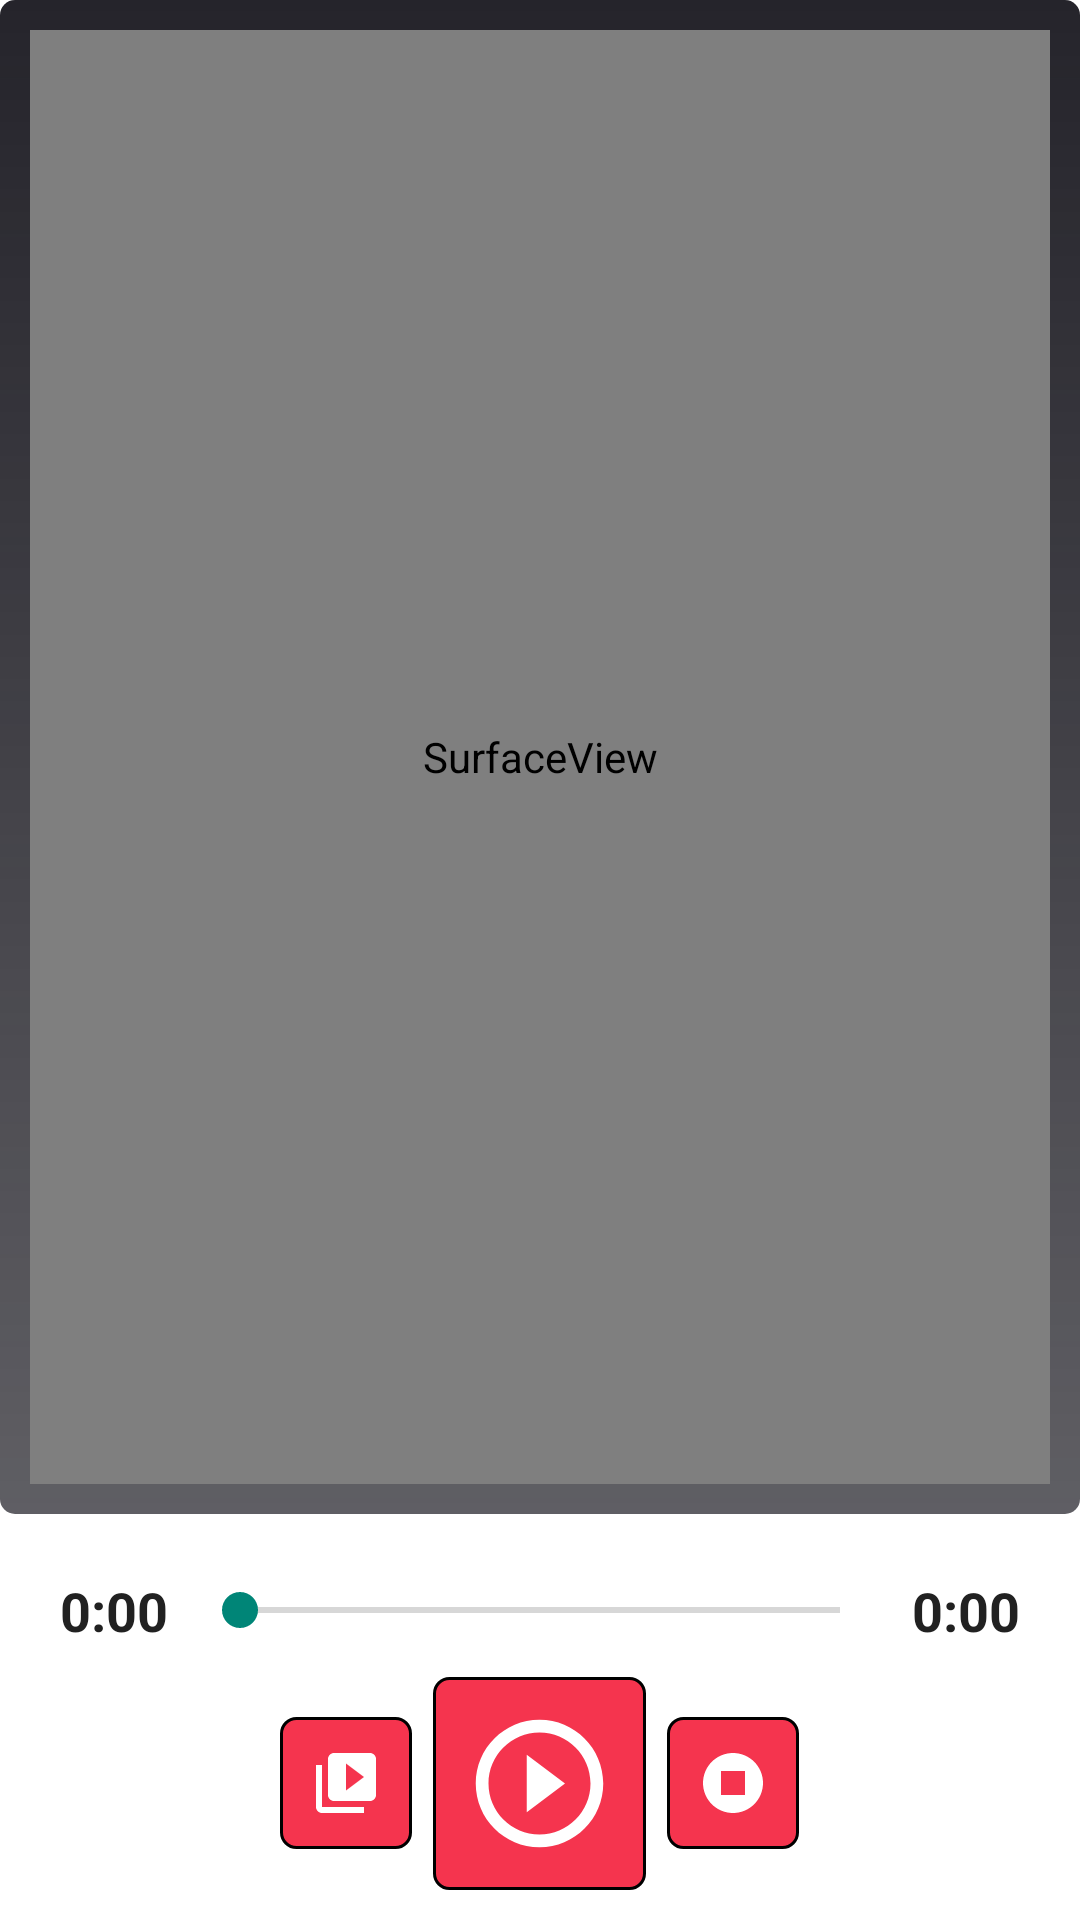

Locate icon controls on the screen. Image size 1080w x 1920h, boxes as (x1, y1, x2, y2).
audio play: (433, 1677, 646, 1890)
audio video stop: (667, 1717, 799, 1849)
video intent: (280, 1717, 412, 1849)
